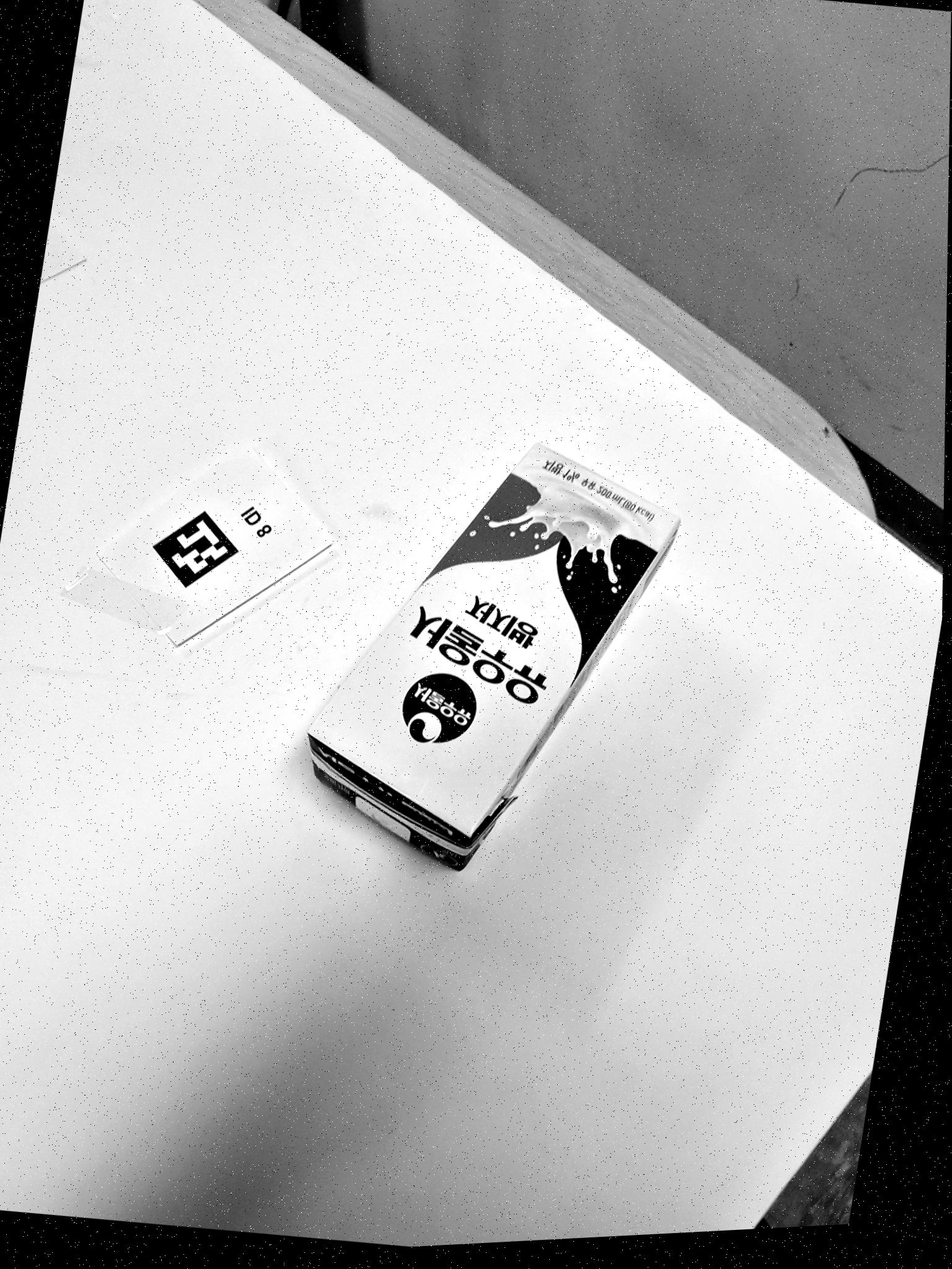milk_blue: (306, 444, 681, 872)
